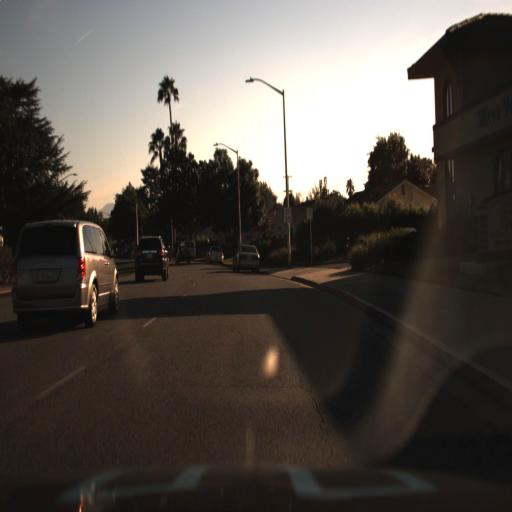car: (12, 223, 121, 328), (132, 230, 172, 284), (228, 242, 263, 275), (202, 242, 223, 270), (174, 242, 192, 268), (174, 244, 192, 265)
